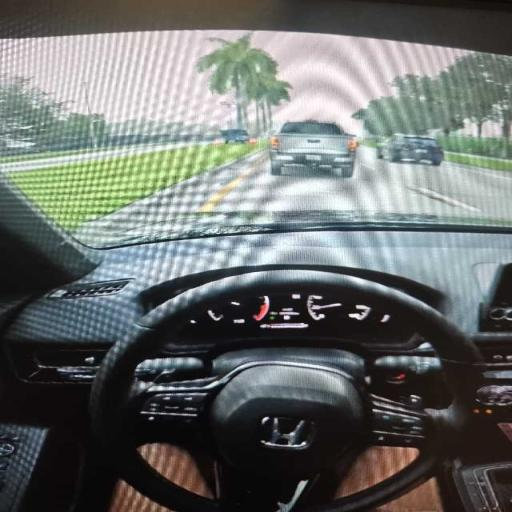car: (0, 0, 511, 511), (377, 134, 443, 165), (0, 138, 38, 155), (221, 130, 250, 144)
lane: (79, 148, 511, 243), (0, 142, 211, 172)
truck: (270, 121, 357, 177)
